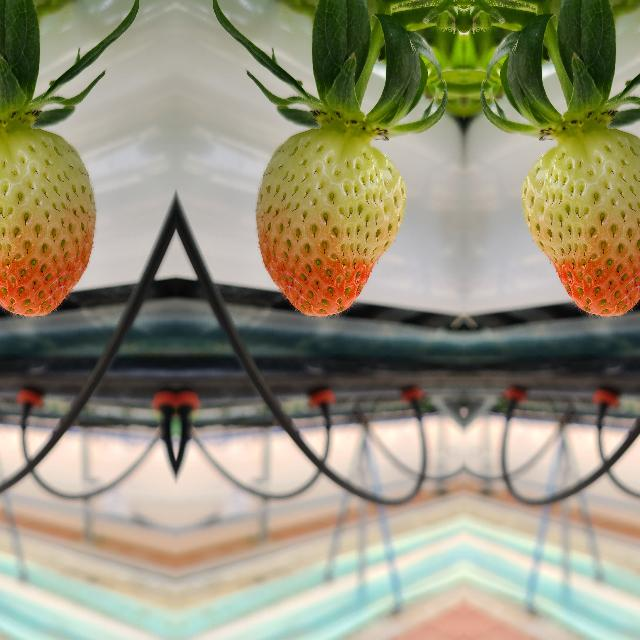Health_50: (254, 128, 406, 320), (520, 128, 640, 319), (0, 128, 96, 319)
